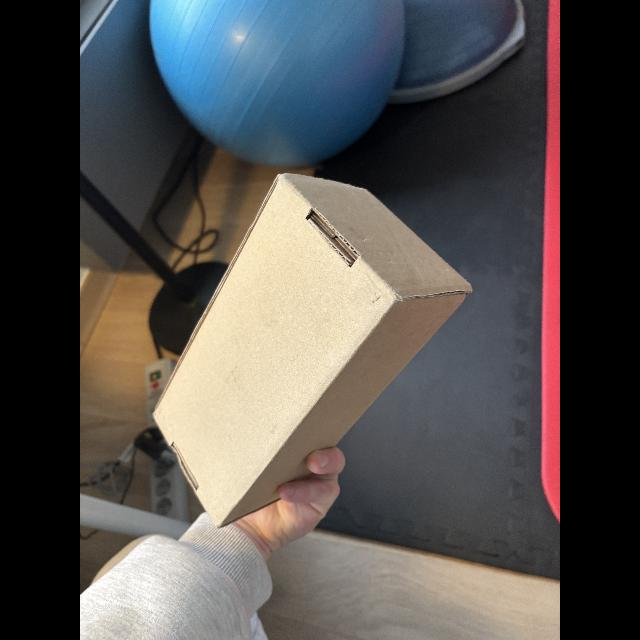Cardboard: (150, 173, 474, 529)
